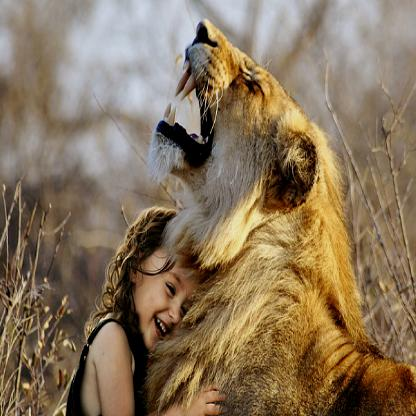cat: (146, 16, 416, 415)
